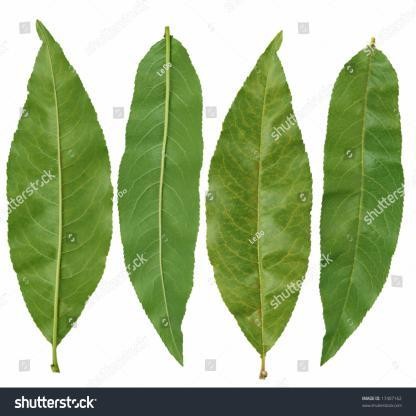Peach leaf: (205, 27, 314, 378), (4, 19, 115, 358), (110, 16, 202, 375), (319, 34, 407, 366)
